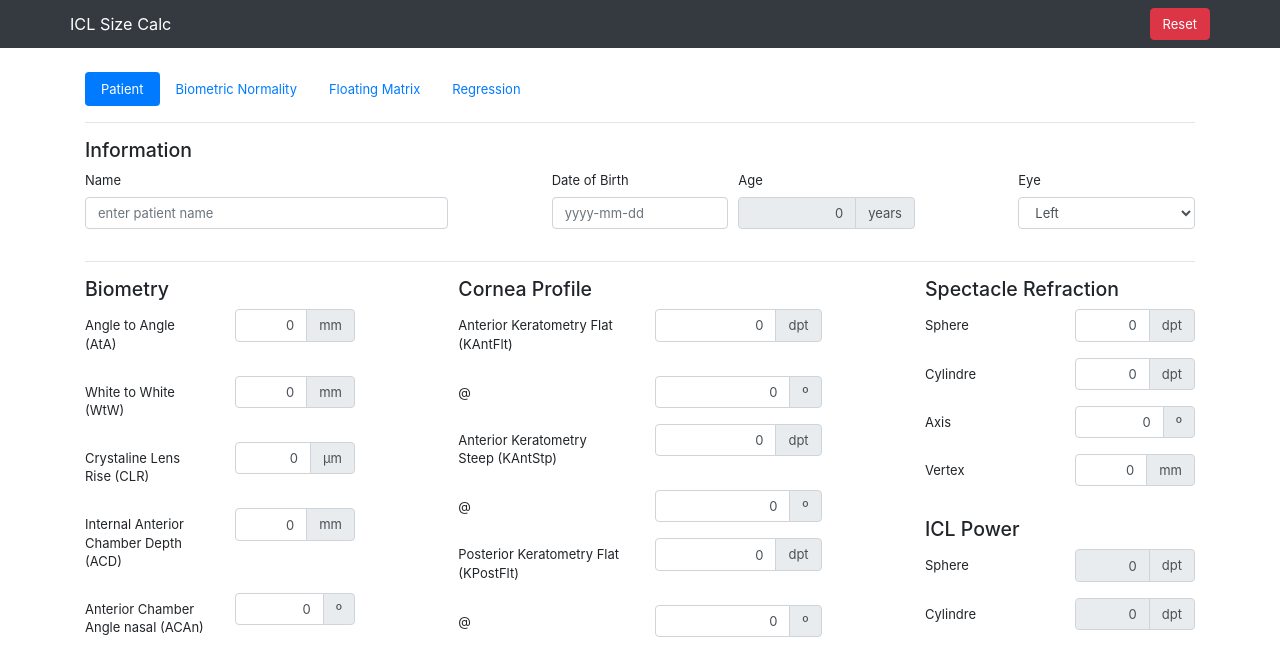
it: switches to Biometric Normality tab when clicked
Click the link "Biometric Normality" at (236, 89), box [176,81,297,97]
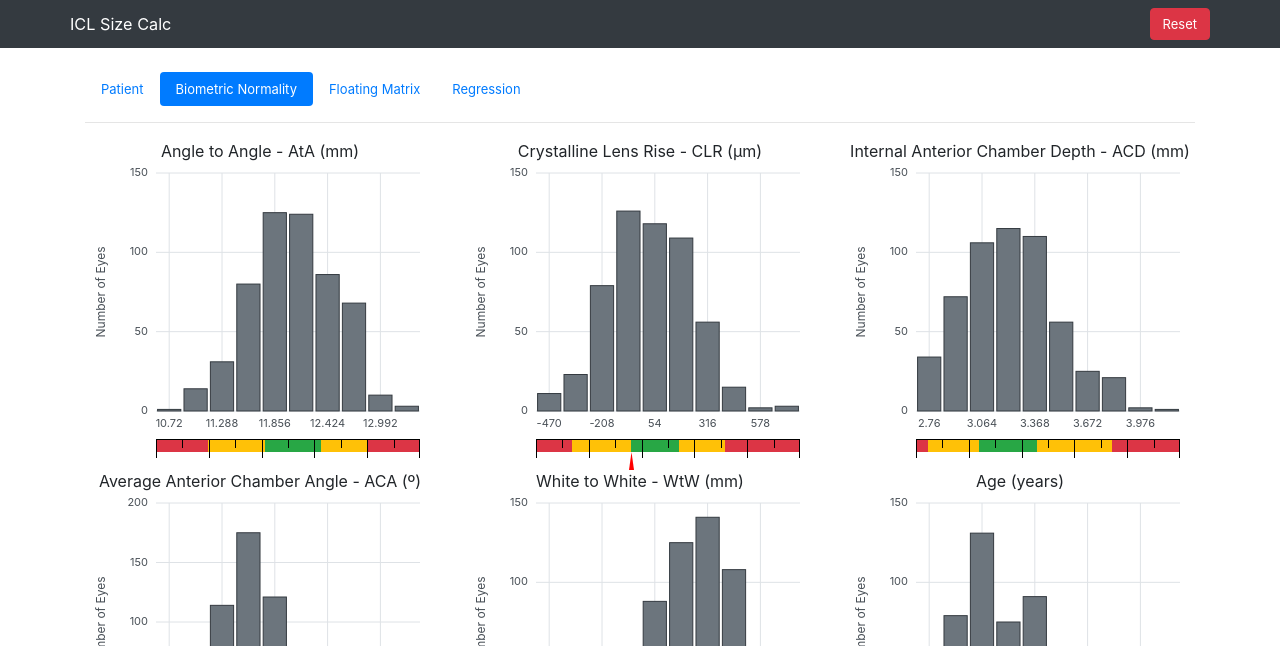
Check: the text "Angle to Angle - AtA (mm)" is shown, box [161,141,359,161]
Check: the label labelled "Name" is gone
